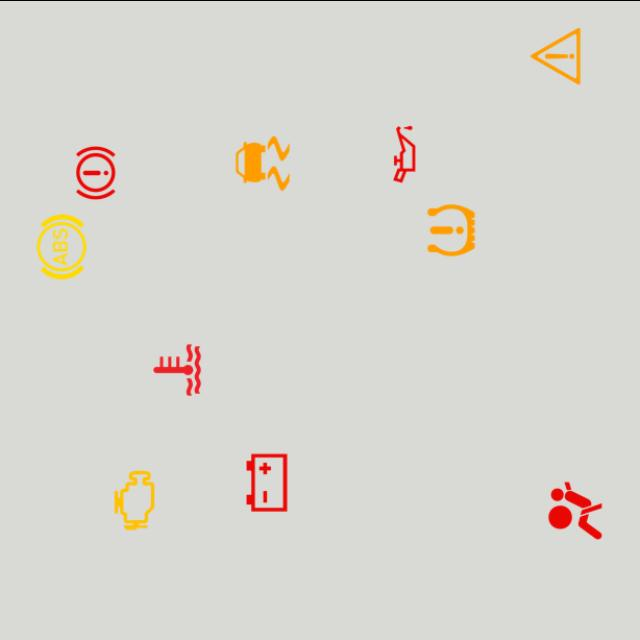Anti Lock Braking System: (26, 210, 97, 282)
Braking System Issue: (60, 136, 132, 208)
Charging System Issue: (232, 446, 302, 517)
Check Engine: (99, 464, 170, 535)
Electronic Stability Problem -ESP-: (227, 127, 298, 198)
Engine Overheating Warning Light: (142, 334, 212, 404)
Low Engine Oil Warning Light: (369, 118, 440, 188)
Low Tire Pressure Warning Light: (416, 194, 487, 265)
Master warning light: (520, 20, 591, 90)
SRS-Airbag: (540, 474, 611, 545)
